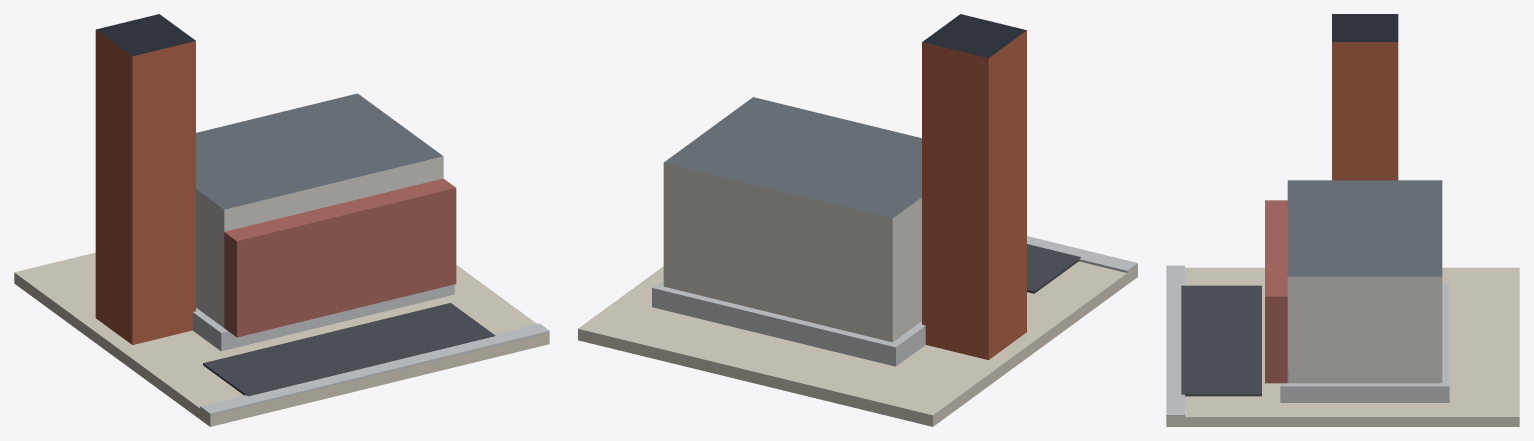
The picture shows the model from 3 angles, left to right: view 1: azimuth 30°, elevation 25°; view 2: azimuth 150°, elevation 25°; view 3: azimuth 270°, elevation 25°; orthographic projection. The views are drawn at different scales.
Visible parts, largest first — view 1: b30_v2_lod2; view 2: b30_v2_lod2; view 3: b30_v2_lod2.
Part boxes in pixels (x1,y1,x2,y2): b30_v2_lod2: (14, 14, 549, 426); b30_v2_lod2: (578, 14, 1137, 426); b30_v2_lod2: (1166, 14, 1519, 426).
Bounding box in the file's own units: 0.96 × 0.81 × 0.96.
